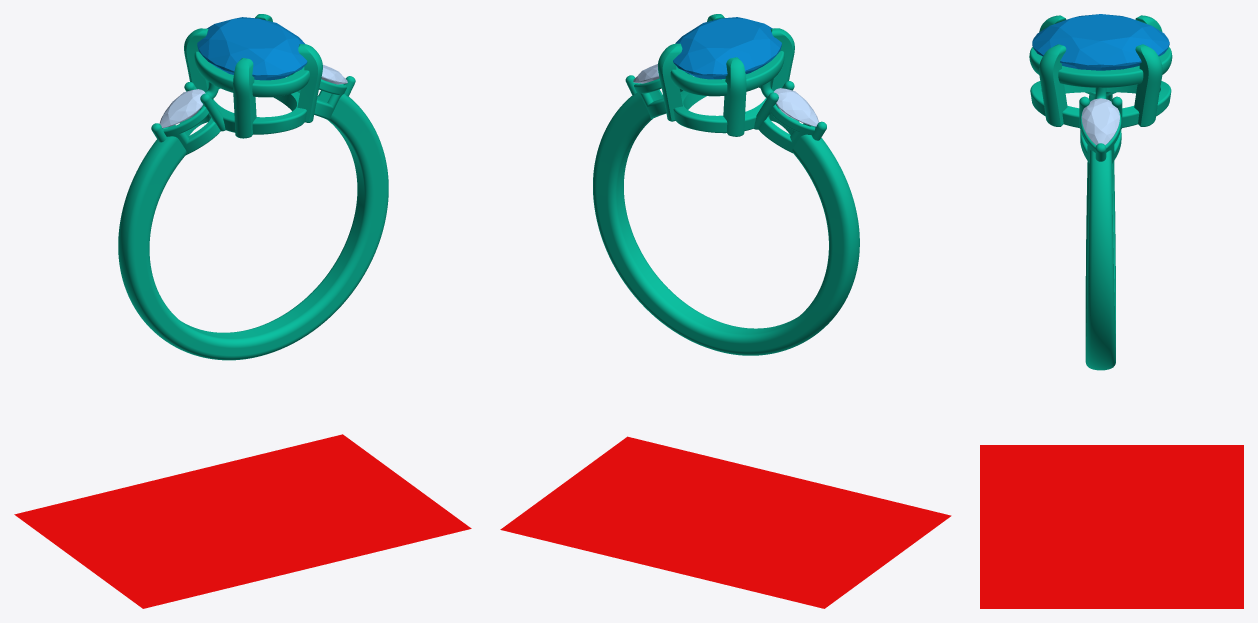
3 renders of one model, left to right at view 1: azimuth 30°, elevation 25°; view 2: azimuth 150°, elevation 25°; view 3: azimuth 270°, elevation 25°, orthographic. The views are drawn at different scales.
Parts seen in each view (by area): view 1: RING.JTC.SRO7(front).3dm, Diamond_Oval, Head Prong (×3), Head Rail (×2), Diamond_Pear; view 2: RING.JTC.SRO7(front).3dm, Diamond_Oval, Head Prong (×3), Head Rail (×2), Diamond_Pear; view 3: RING.JTC.SRO7(front).3dm, Diamond_Oval, Head Rail (×2), Head Prong (×2), Diamond_Pear.
Boxes of the visible parts, x1,y1,x2,y2 form: RING.JTC.SRO7(front).3dm: (14,73,471,608); Diamond_Oval: (197,17,307,80); Head Prong (×3): (184,28,322,138); Head Rail (×2): (194,51,309,134); Diamond_Pear: (159,89,205,128); RING.JTC.SRO7(front).3dm: (500,72,951,608); Diamond_Oval: (673,17,781,79); Head Prong (×3): (658,28,794,136); Head Rail (×2): (670,51,784,133); Diamond_Pear: (774,88,818,126); RING.JTC.SRO7(front).3dm: (980,87,1243,608); Diamond_Oval: (1032,14,1169,70); Head Rail (×2): (1029,47,1172,127); Head Prong (×2): (1039,44,1162,126); Diamond_Pear: (1081,98,1119,145).
Size of what is drawn, in the model's own units: 3.11 by 4.43 by 2.11.
